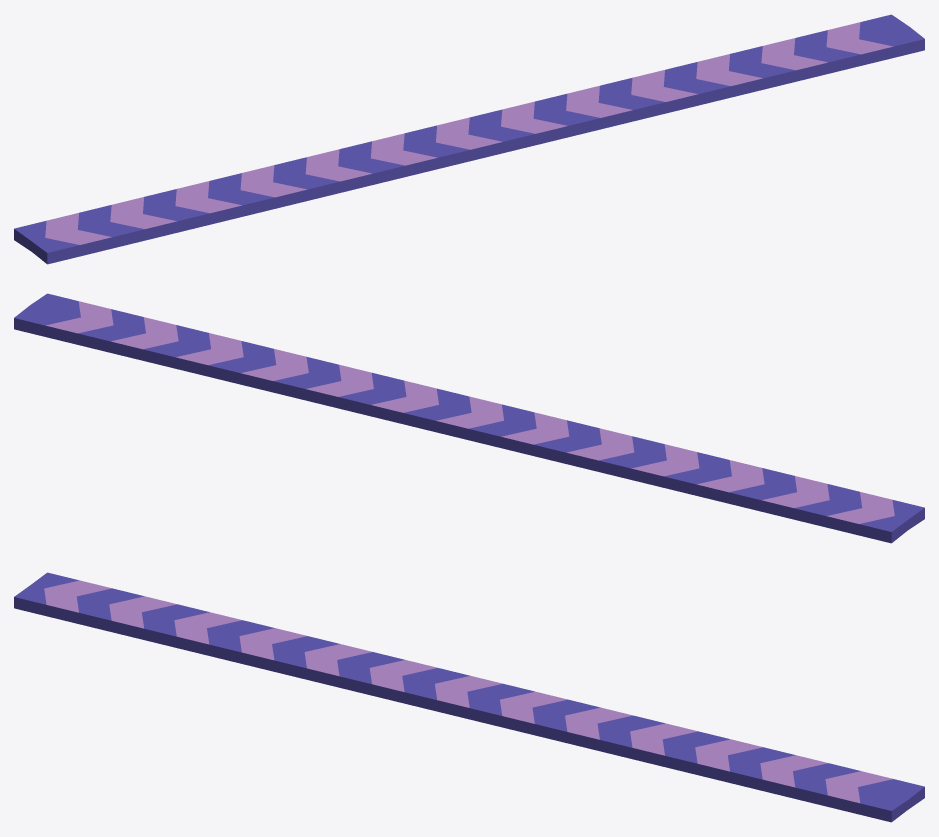
File: yol.fbx
3 renders of one model, top to bottom at view 1: azimuth 30°, elevation 25°; view 2: azimuth 150°, elevation 25°; view 3: azimuth 330°, elevation 25°, orthographic.
Parts seen in each view (by area): view 1: Cube; view 2: Cube; view 3: Cube.
Part boxes in pixels (x1,y1,x2,y2): Cube: (14,14,924,264); Cube: (14,293,924,543); Cube: (14,572,924,822).
Size of the model in its own units: 3040 by 37.8 by 200.
